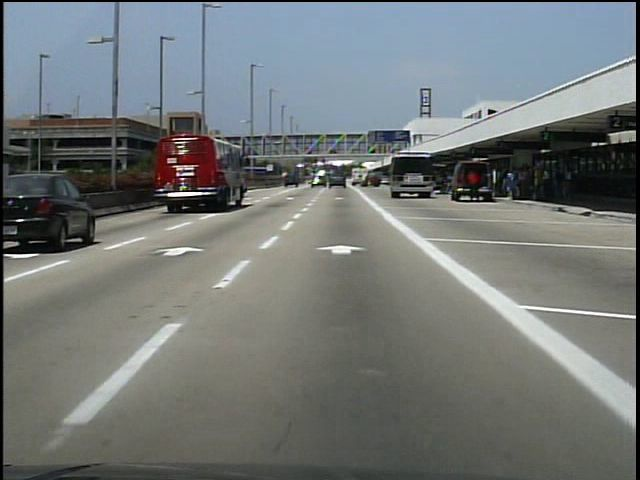person: (467, 165, 483, 204)
